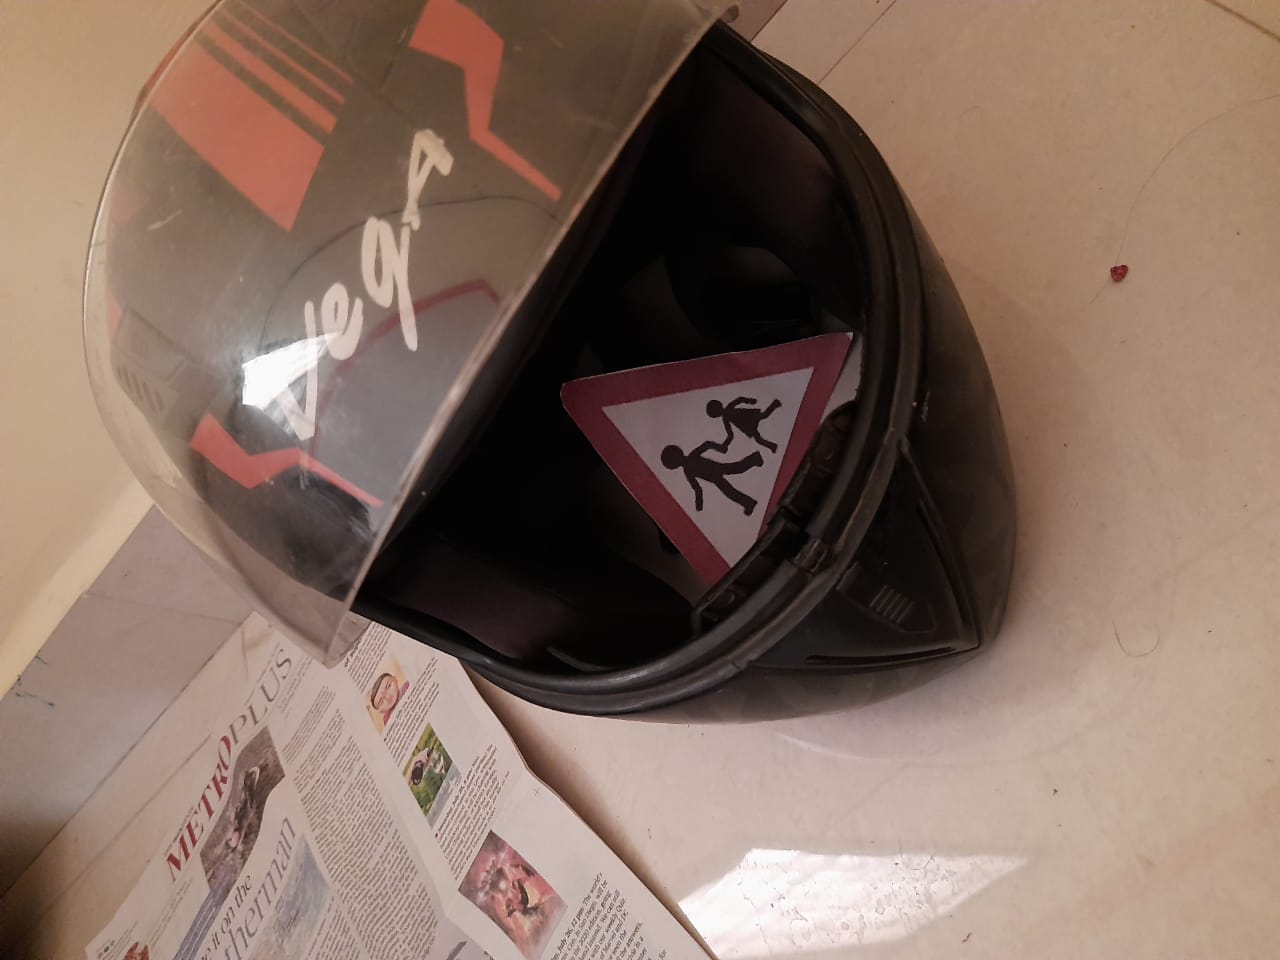SCHOOL ZONE: (558, 326, 862, 600)
